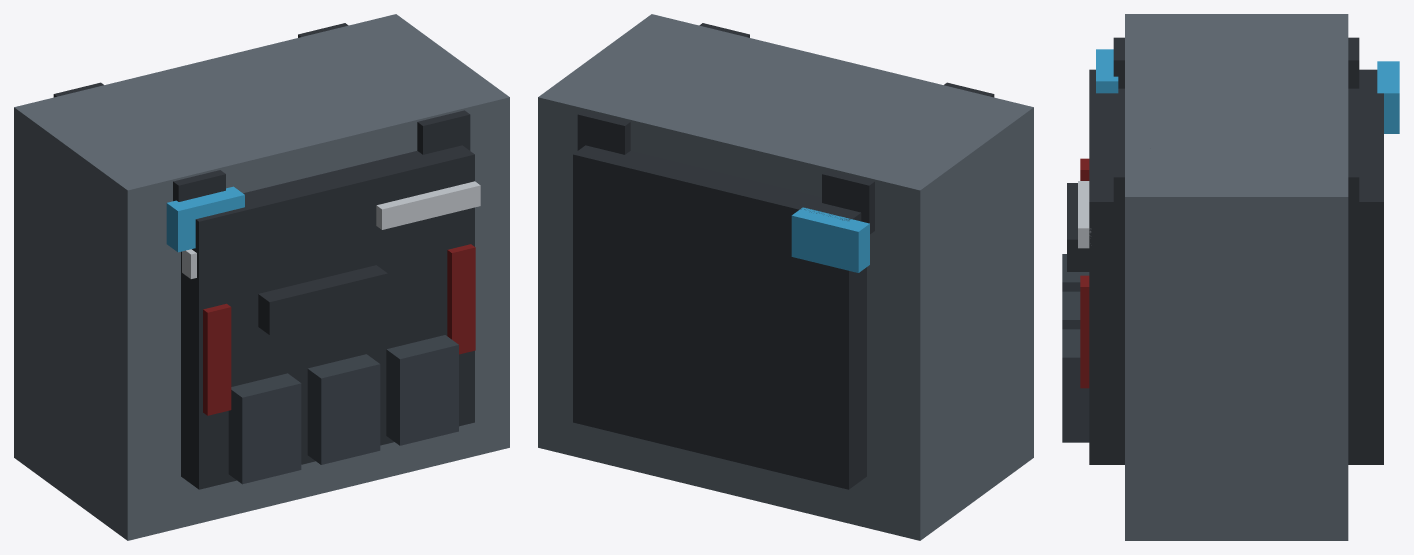
The model's file is pc_assault_upper_torso.fbx.
3 views of the same model, side by side, from view 1: azimuth 30°, elevation 25°; view 2: azimuth 150°, elevation 25°; view 3: azimuth 270°, elevation 25° (orthographic).
Visible parts, largest first — view 1: pc_assault_upper_torso; view 2: pc_assault_upper_torso; view 3: pc_assault_upper_torso.
Part boxes in pixels (left/top/right/bottom): pc_assault_upper_torso: left=14, top=14, right=509, bottom=540; pc_assault_upper_torso: left=538, top=14, right=1033, bottom=540; pc_assault_upper_torso: left=1062, top=14, right=1399, bottom=540.
Bounding box in the file's own units: 194 × 170 × 151.
